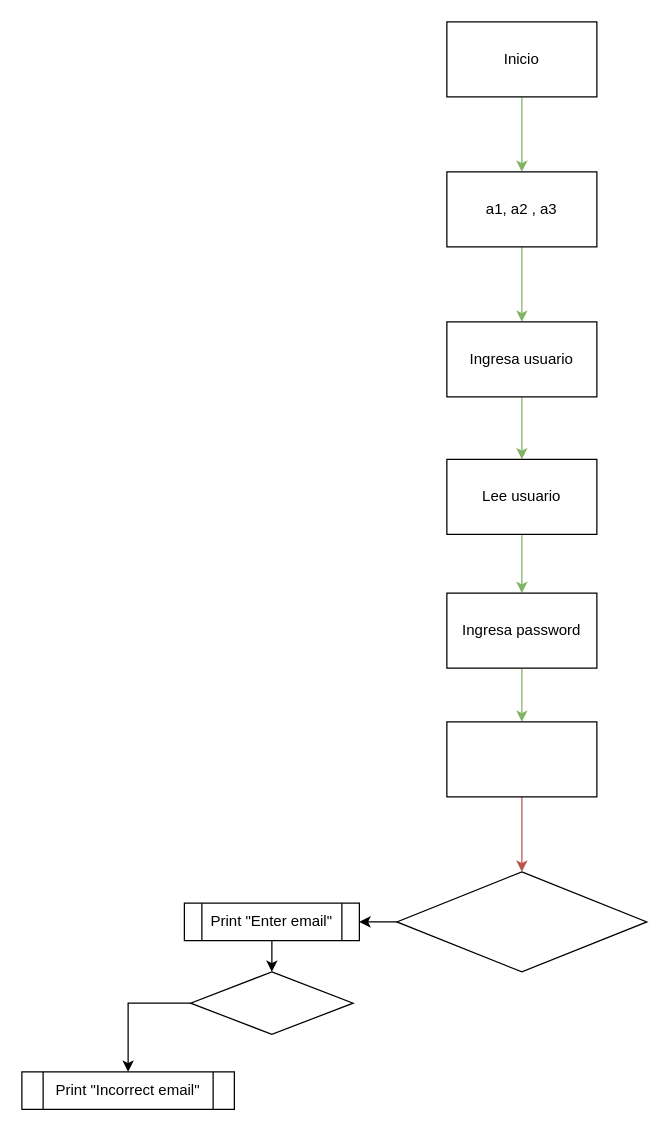
This 669x1131 diagram has some shape labels left out. Each missing label, with the centre of its shape:
"if email == user.email" goes at (x=271, y=1002).
"Lee pasword" goes at (x=521, y=759).
"while user !== user || password !== password" goes at (x=521, y=921).
